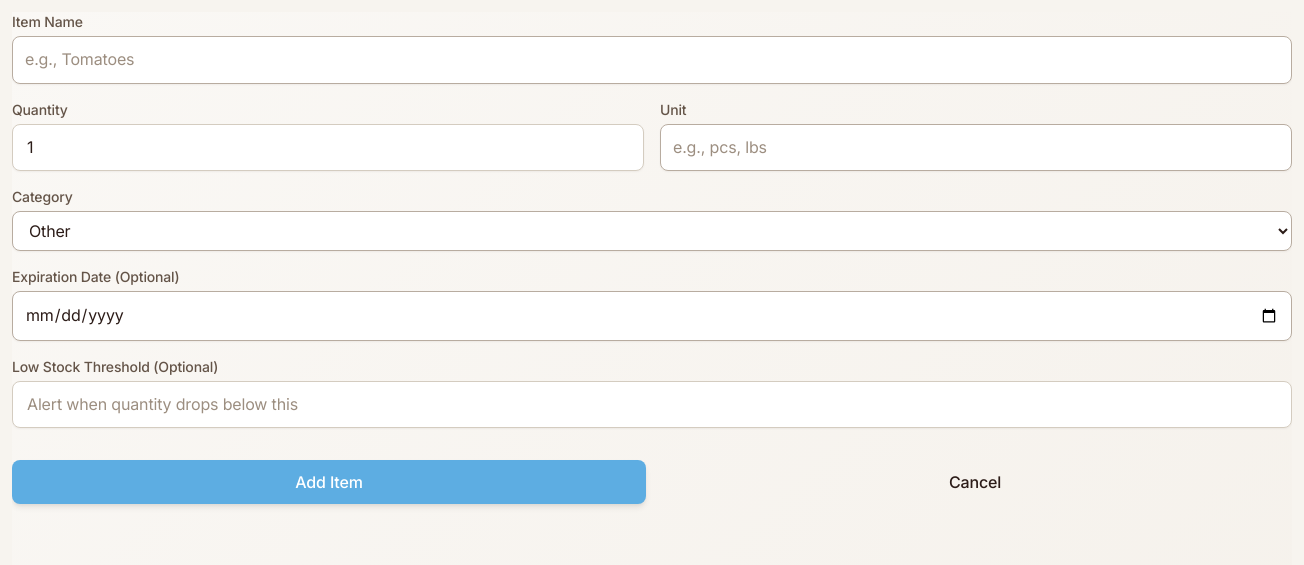
Test: AddPantryItemForm › validates quantity cannot be negative
This screenshot has width=1304, height=565.
Type "Test Item" into the field labelled "Item Name" at (652, 60), box top-left (12, 36), bottom-right (1292, 84)
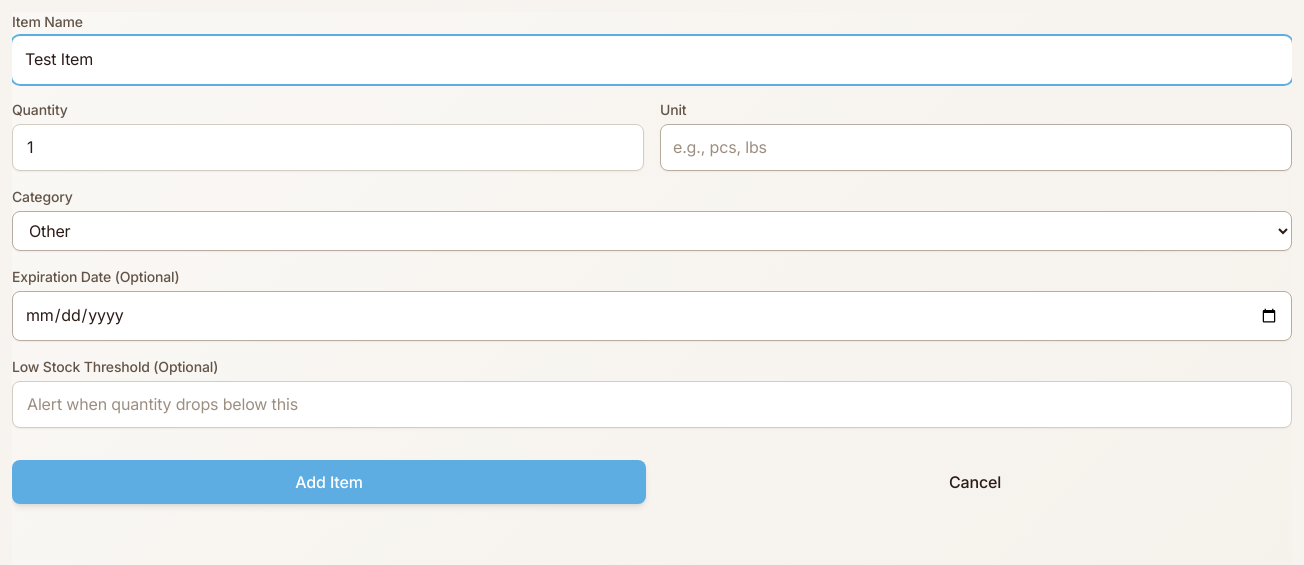
Replace the text in the number field labelled "Quantity" with "-1" at (328, 147), box top-left (12, 124), bottom-right (644, 171)
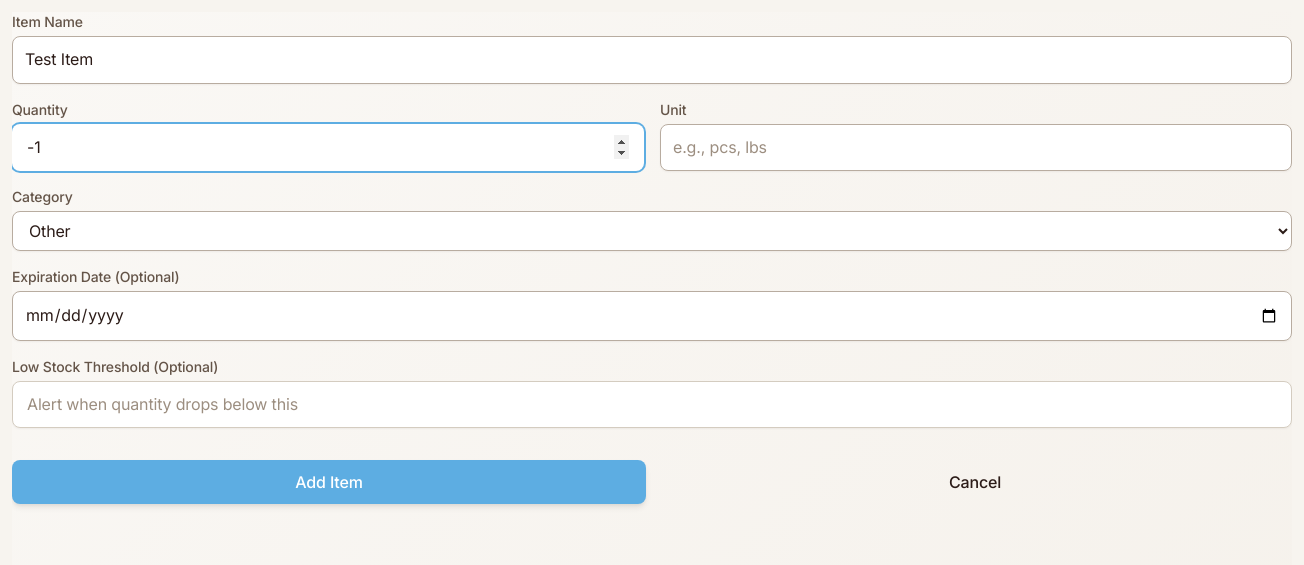
Click the button "Add Item" at (329, 482), box top-left (12, 460), bottom-right (646, 504)
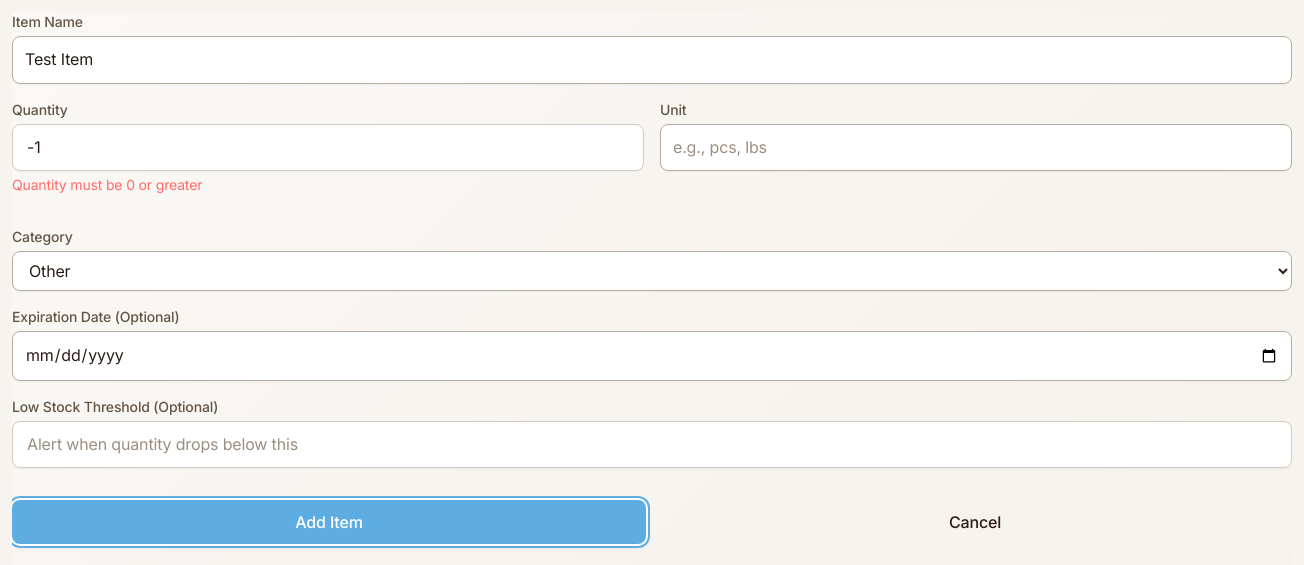
Check: the text "Quantity must be 0 or greater" is shown, box top-left (12, 176), bottom-right (202, 193)
